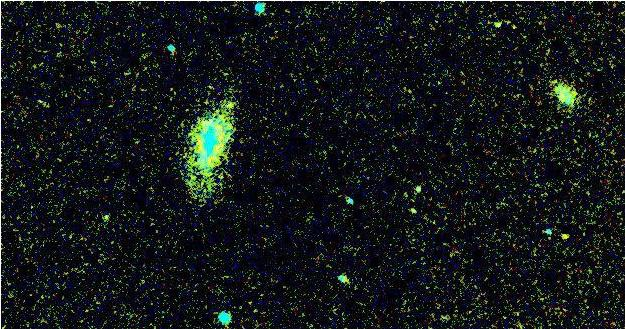star: (552, 222, 582, 252)
